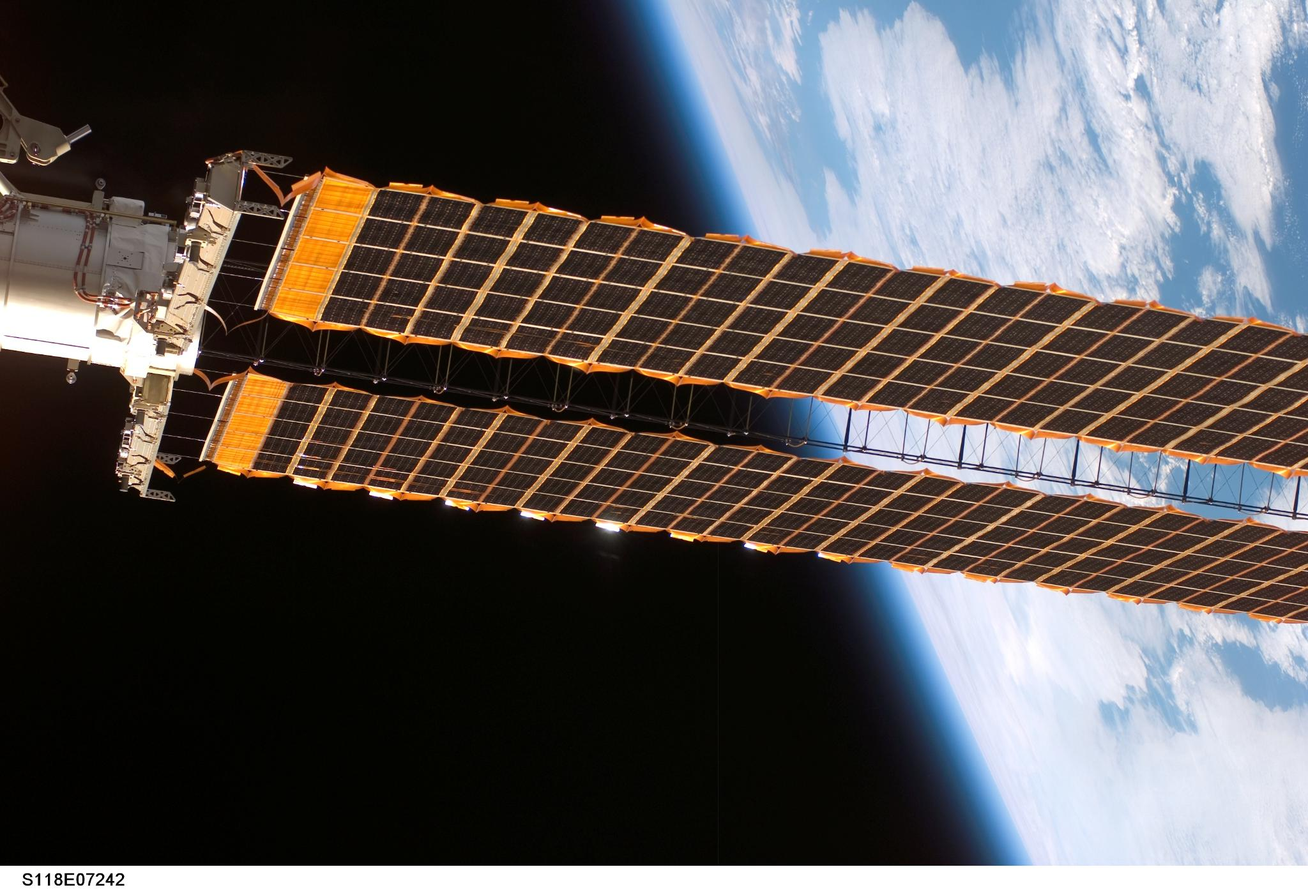solar: (253, 175, 1308, 500), (197, 369, 1308, 625)
